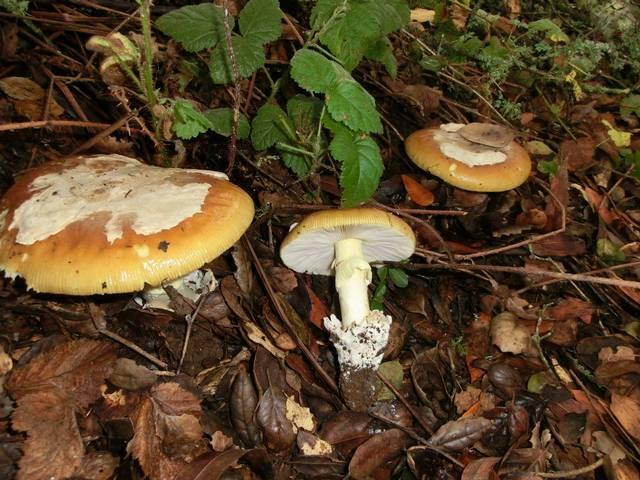Edible Mushroom: (0, 151, 255, 296), (278, 205, 416, 411), (404, 120, 531, 192)
